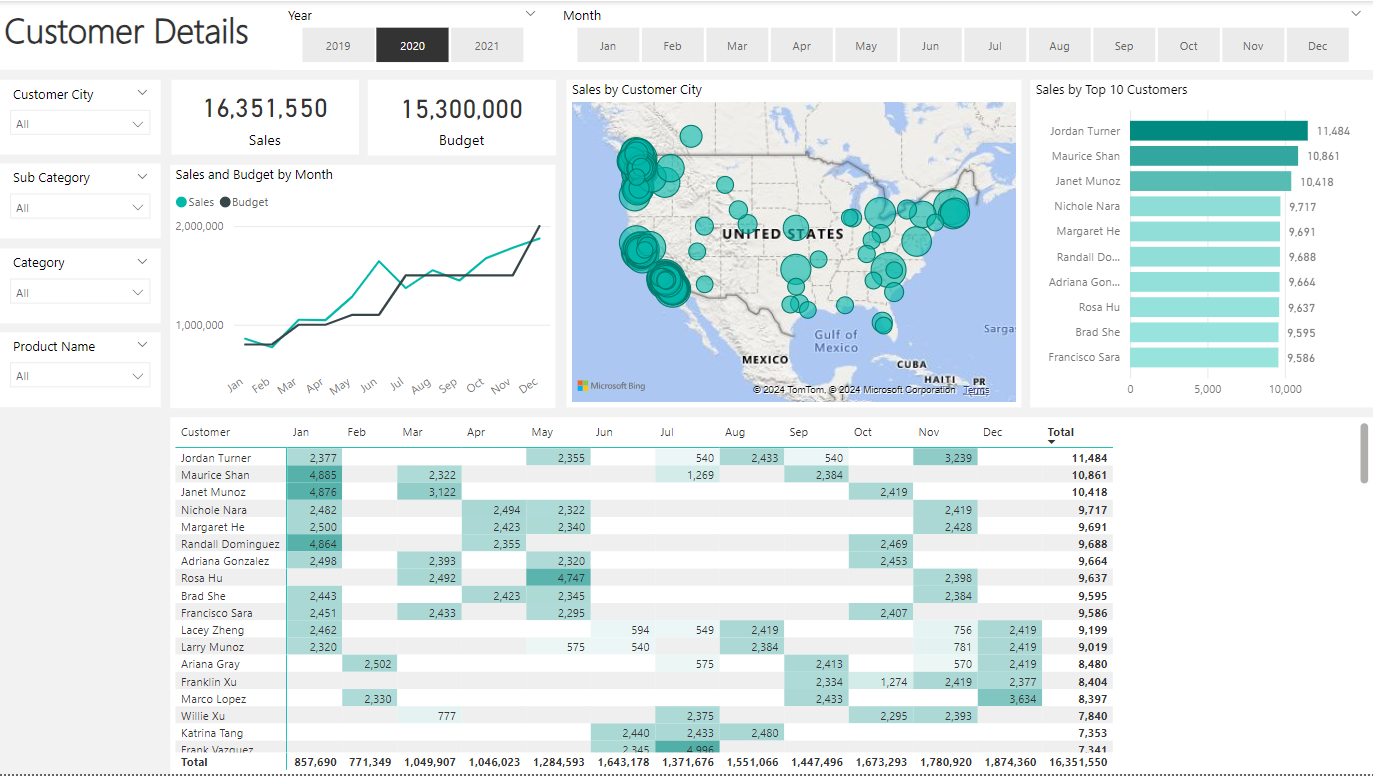

This screenshot's page, from the dashboard's own definition file:
{"tool":"powerbi","page":{"name":"Customer Details","canvas":[1280,720],"ordinal":1},"visuals":[{"type":"textbox","box":[0,0,1280,64],"z":0},{"type":"slicer","fields":{"Values":["DIM_Calendar.Year"]},"box":[256,0,256,64],"z":1000},{"type":"slicer","fields":{"Values":["DIM_Calendar.MonthShort"]},"box":[512,0,768,64],"z":2000},{"type":"slicer","fields":{"Values":["DIM_Customers.Customer City"]},"box":[0,73,150.5,69.3],"z":3000},{"type":"slicer","fields":{"Values":["DIM_Products.Product Category"]},"box":[0,229.9,150.5,69.3],"z":4000},{"type":"slicer","fields":{"Values":["DIM_Products.Product Name"]},"box":[0,308.4,150.5,69.3],"z":5000},{"type":"slicer","fields":{"Values":["DIM_Products.Sub Category"]},"box":[0,151.4,150.5,69.3],"z":6000},{"type":"lineChart","fields":{"Category":["DIM_Calendar.MonthShort"],"Y":["Analysis Metrics.Sales","Analysis Metrics.Budget"]},"box":[159.8,151.8,358.7,226.4],"z":7000},{"type":"card","fields":{"Values":["Analysis Metrics.Sales"]},"box":[160.7,72.8,174,69.2],"z":8000},{"type":"map","fields":{"Category":["DIM_Customers.Customer City"],"Size":["Analysis Metrics.Sales"]},"box":[527.3,72.8,423.5,304.5],"z":9000},{"type":"card","fields":{"Values":["Analysis Metrics.Budget"]},"box":[343.6,72.8,174.9,70.1],"z":10000},{"type":"pivotTable","fields":{"Rows":["DIM_Customers.Full Name"],"Columns":["DIM_Calendar.MonthShort"],"Values":["Analysis Metrics.Sales"]},"box":[159.8,387.1,1120.4,332.9],"z":11000},{"type":"barChart","title":"Sales by Top 10 Customers","fields":{"Category":["DIM_Customers.Full Name"],"Y":["Analysis Metrics.Sales"]},"box":[959.7,72.8,320.5,304.5],"z":12000}]}

Visuals, with their boxes in screenshot pixels (x1, y1, x2, y2), scaled from the page's 1280x720 canvas onto the 1373x776 screenshot:
textbox: detection(0, 0, 1372, 69)
slicer - DIM_Calendar.Year: detection(275, 0, 549, 69)
slicer - DIM_Calendar.MonthShort: detection(549, 0, 1372, 69)
slicer - DIM_Customers.Customer City: detection(0, 79, 161, 153)
slicer - DIM_Products.Product Category: detection(0, 248, 161, 322)
slicer - DIM_Products.Product Name: detection(0, 332, 161, 407)
slicer - DIM_Products.Sub Category: detection(0, 163, 161, 238)
lineChart - DIM_Calendar.MonthShort x Analysis Metrics.Sales: detection(171, 164, 556, 408)
card - Analysis Metrics.Sales: detection(172, 78, 359, 153)
map - DIM_Customers.Customer City x Analysis Metrics.Sales: detection(566, 78, 1020, 407)
card - Analysis Metrics.Budget: detection(369, 78, 556, 154)
pivotTable - DIM_Customers.Full Name x DIM_Calendar.MonthShort: detection(171, 417, 1372, 775)
"Sales by Top 10 Customers" barChart: detection(1029, 78, 1372, 407)
